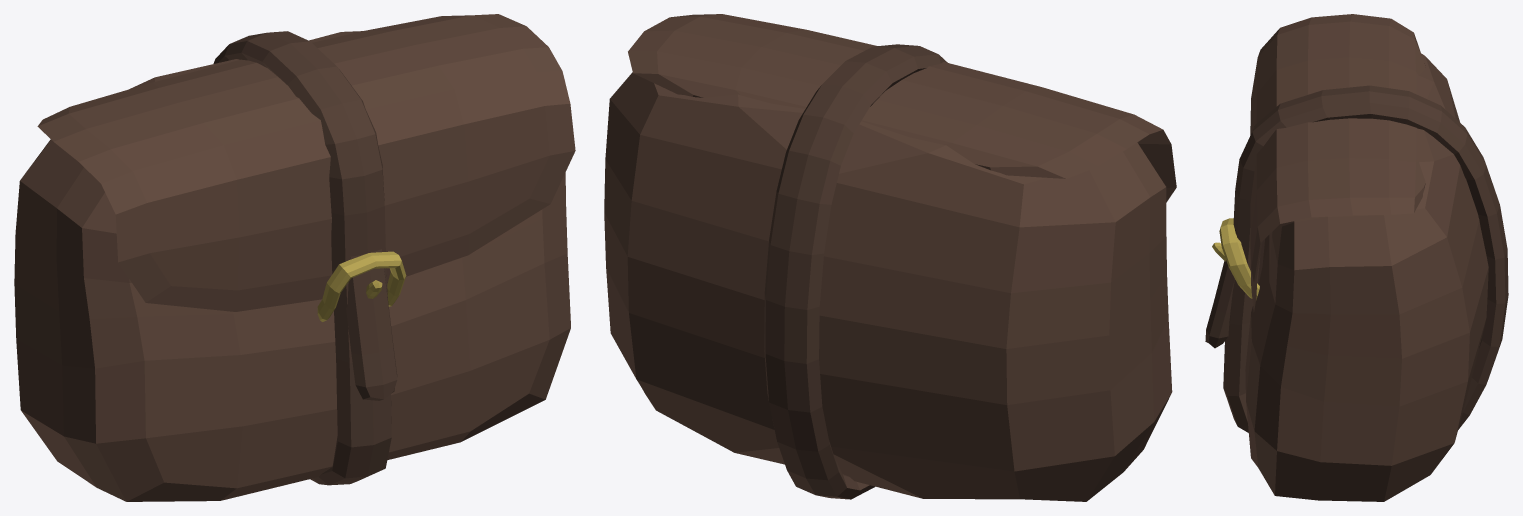
File: Bag-transformed.glb
The picture shows the model from 3 angles, left to right: view 1: azimuth 30°, elevation 25°; view 2: azimuth 150°, elevation 25°; view 3: azimuth 270°, elevation 25°; orthographic projection. The views are drawn at different scales.
Visible parts, largest first — view 1: Bag; view 2: Bag; view 3: Bag.
Part boxes in pixels (<box>): Bag: <box>14,14,575,501</box>; Bag: <box>604,14,1176,501</box>; Bag: <box>1205,14,1508,501</box>.
Bounding box in the file's own units: 0.8017 × 0.6274 × 0.4866.
